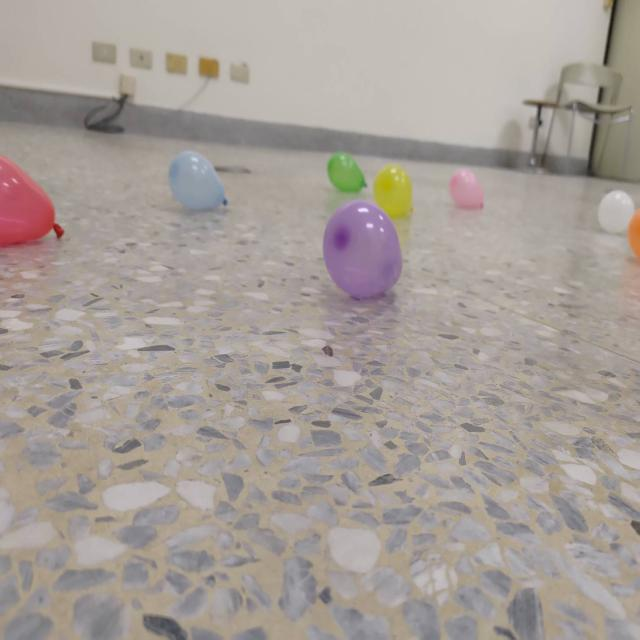other: (321, 199, 403, 299), (167, 148, 230, 208), (373, 164, 416, 216), (326, 150, 367, 190), (595, 191, 634, 230), (448, 167, 485, 208), (628, 210, 639, 258)
red: (0, 155, 67, 248)
